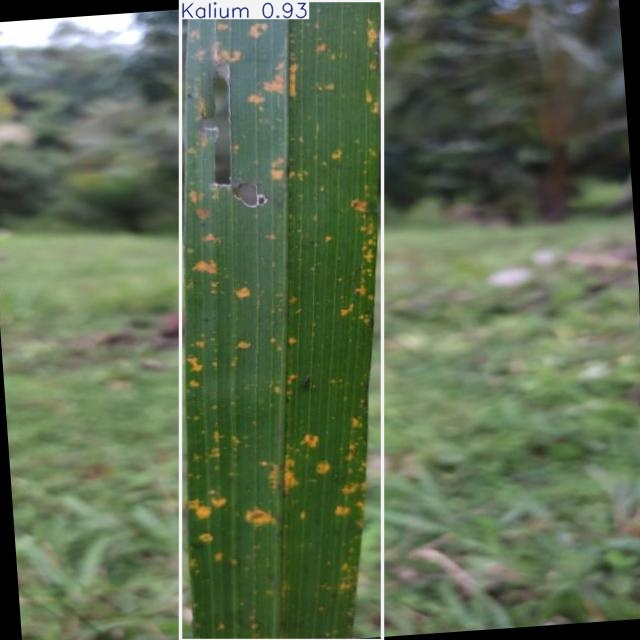Kalium: (180, 0, 382, 640)
